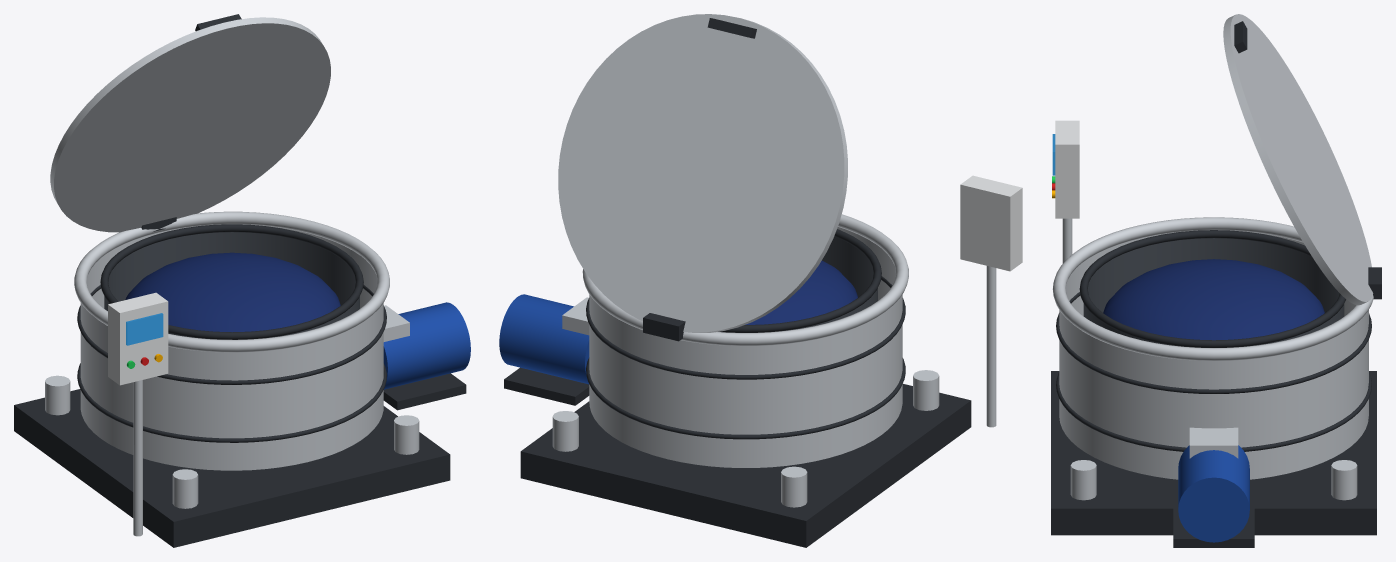
File: santrifuj.glb
3 renders of one model, left to right at view 1: azimuth 30°, elevation 25°; view 2: azimuth 150°, elevation 25°; view 3: azimuth 270°, elevation 25°, orthographic. The views are drawn at different scales.
Parts seen in each view (by area): view 1: Asset; view 2: Asset; view 3: Asset.
Part boxes in pixels (x1,y1,x2,y2): Asset: (14,14,470,547); Asset: (499,14,1022,547); Asset: (1051,14,1381,547).
Size of the model in its own units: 2.98 by 2.95 by 2.03.
